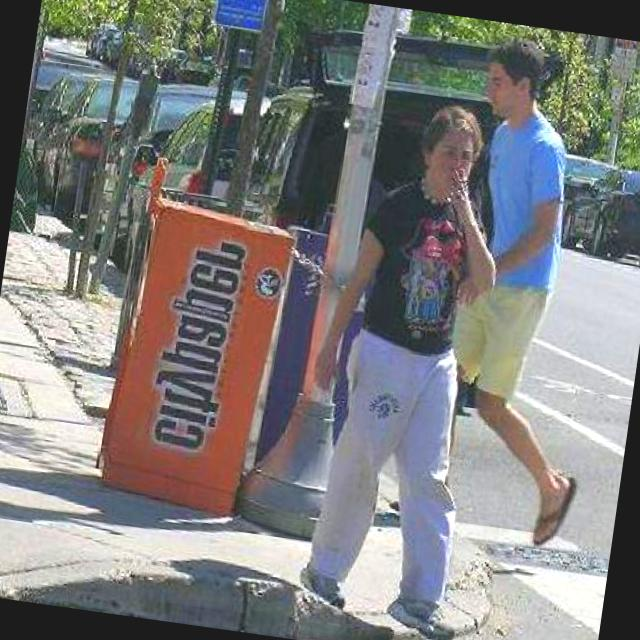Person: (278, 85, 536, 640), (414, 41, 636, 558)
